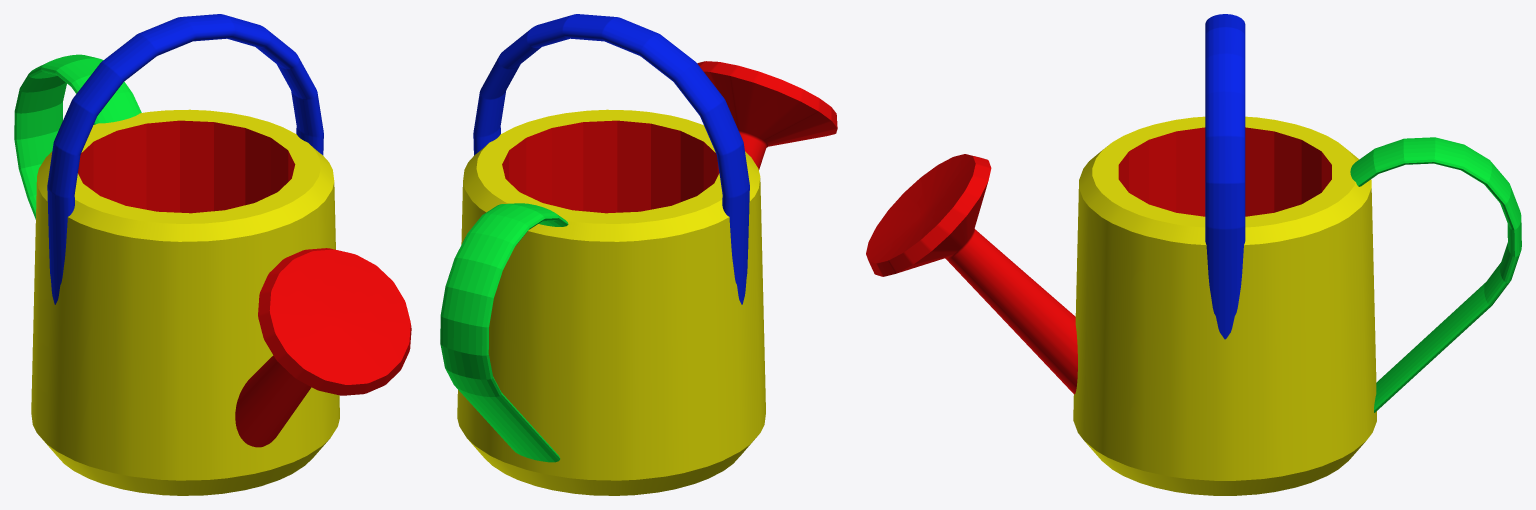
The model's file is Mesh_WateringCan.fbx.
3 views of the same model, side by side, from view 1: azimuth 30°, elevation 25°; view 2: azimuth 150°, elevation 25°; view 3: azimuth 270°, elevation 25° (orthographic).
Parts seen in each view (by area): view 1: Watering_Can; view 2: Watering_Can; view 3: Watering_Can.
Boxes of the visible parts, box(x1,y1,x2,y2) form: Watering_Can: box(14, 14, 411, 495); Watering_Can: box(440, 14, 837, 495); Watering_Can: box(866, 14, 1521, 495).
Bounding box in the file's own units: 16 × 23.94 × 34.48.
